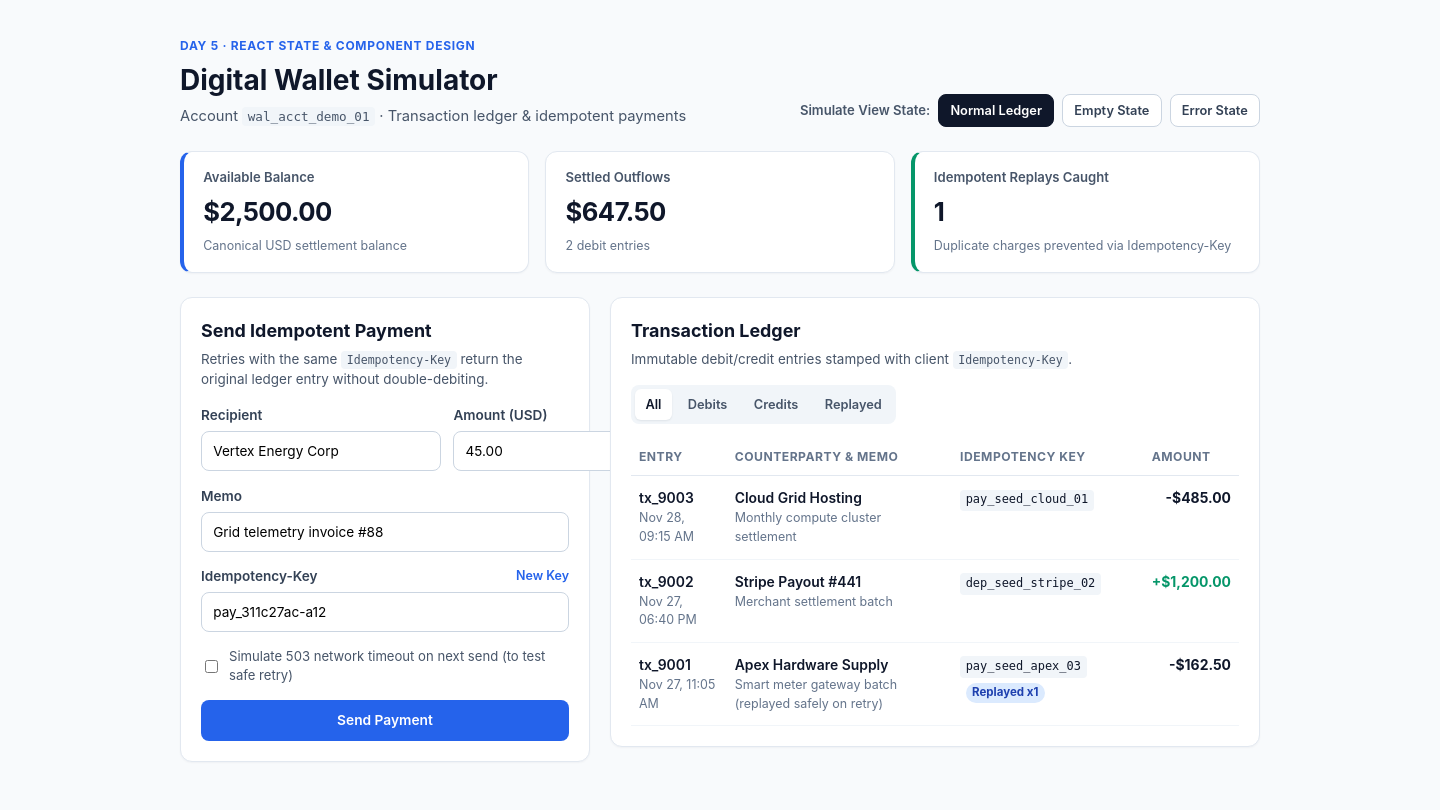
Test case: WalletDashboard (Day 5 React State & Component Design) › rejects reusing an existing Idempotency-Key with a modified payment amount (422 conflict)
Expected: the text "$2,500.00" is shown, [203,196,332,227]
Replace the text in the field labelled "Idempotency-Key" with "pay_seed_cloud_01" at coordinates (385, 612), box [201,592,569,632]
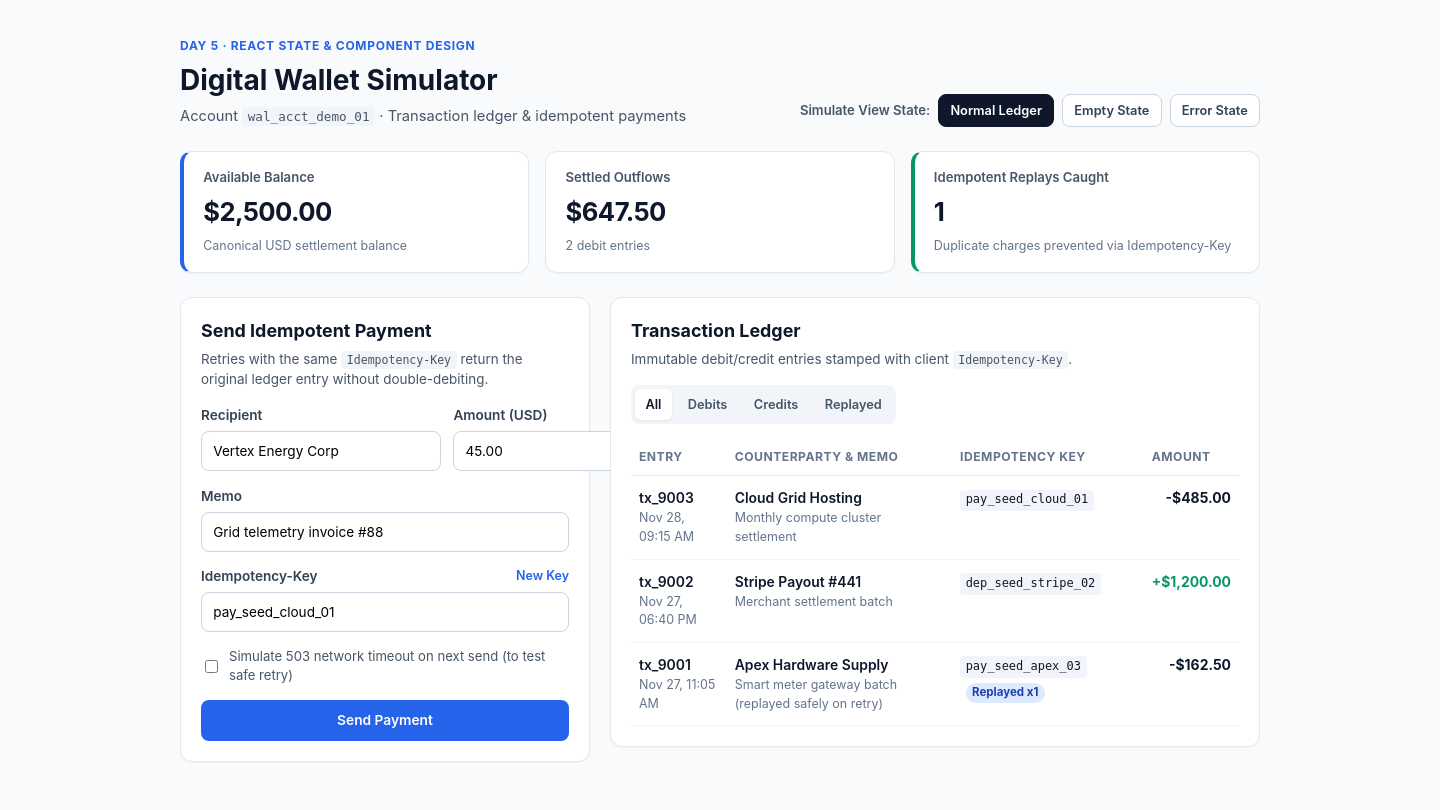
Click the button "Send Payment" at coordinates (385, 720), box [201,700,569,740]
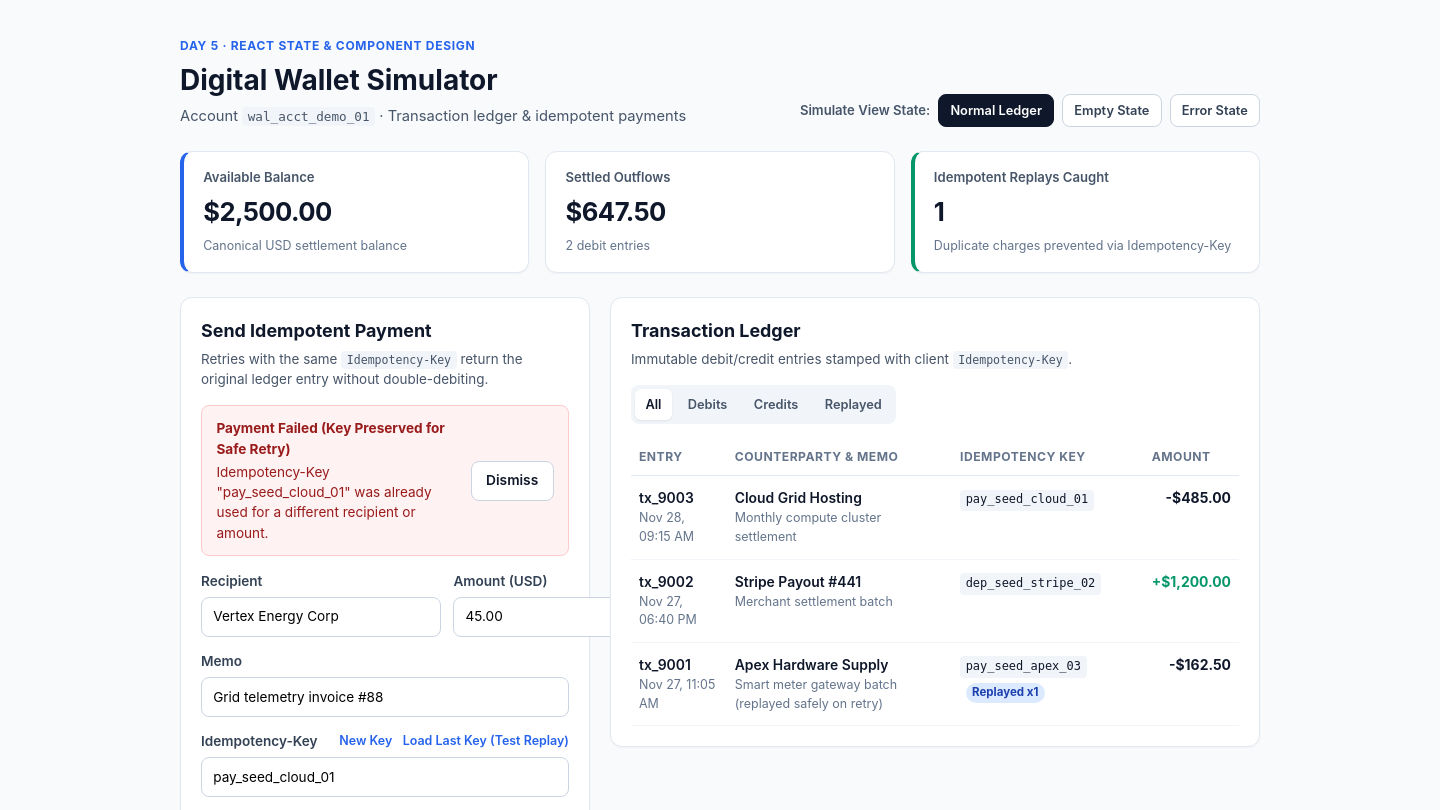
Expected: the text "$2,500.00" is shown, [203,196,332,227]
Now the text "already used for a different recipient or amount" is shown, box [216,464,432,541]
